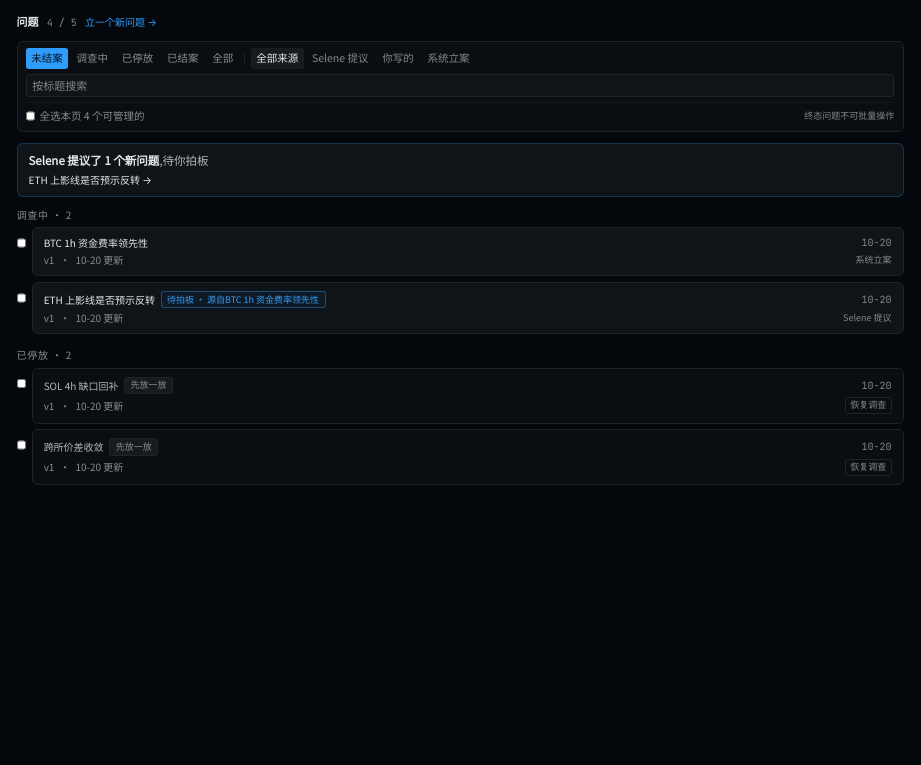
Test: QuestionListView 管理面 › 全选后批量停放:串行逐条 POST,只对 open/parked 发
Expected: the list with test id "open-questions" is shown, [16,227,904,334]
Click the checkbox with test id "question-select-all" at [31, 116], box [26,112,35,121]
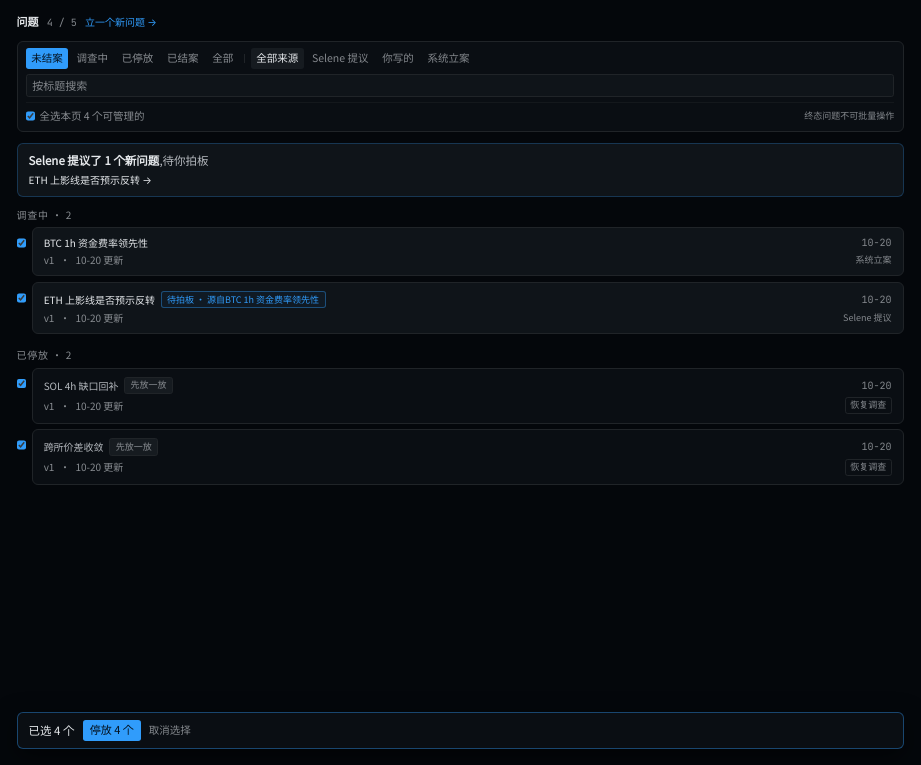
Result: the element with test id "batch-park-bar" shows "已选 4 个" at [28,722,74,738]
Click the button with test id "batch-park" at [112, 730], box [83,720,141,741]
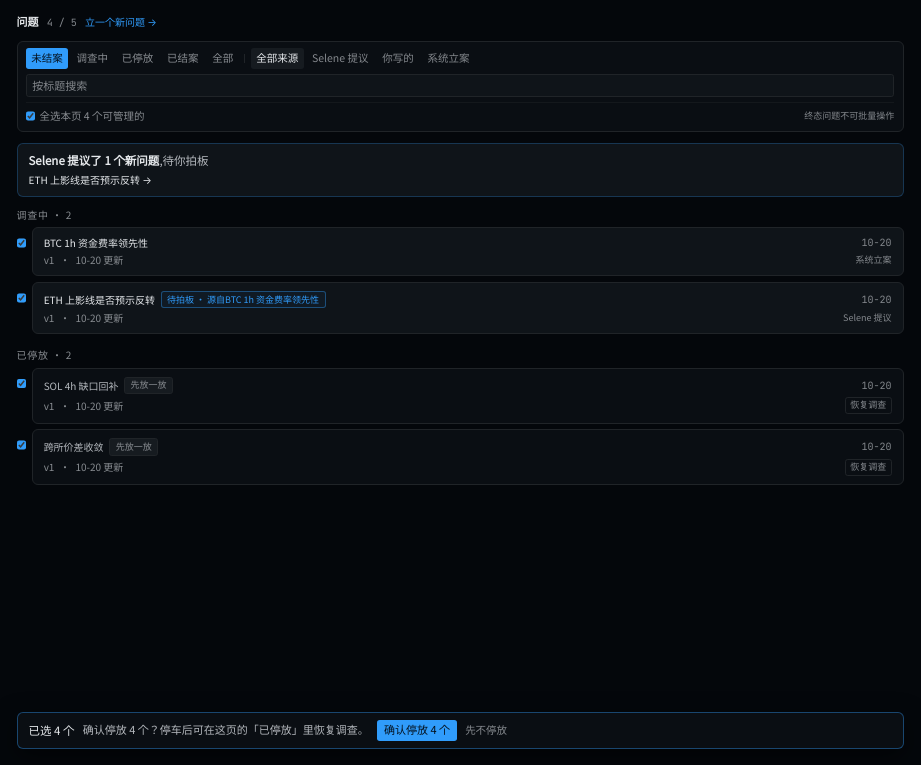
Click the button with test id "batch-park-confirm" at [417, 730], box [377,720,457,741]
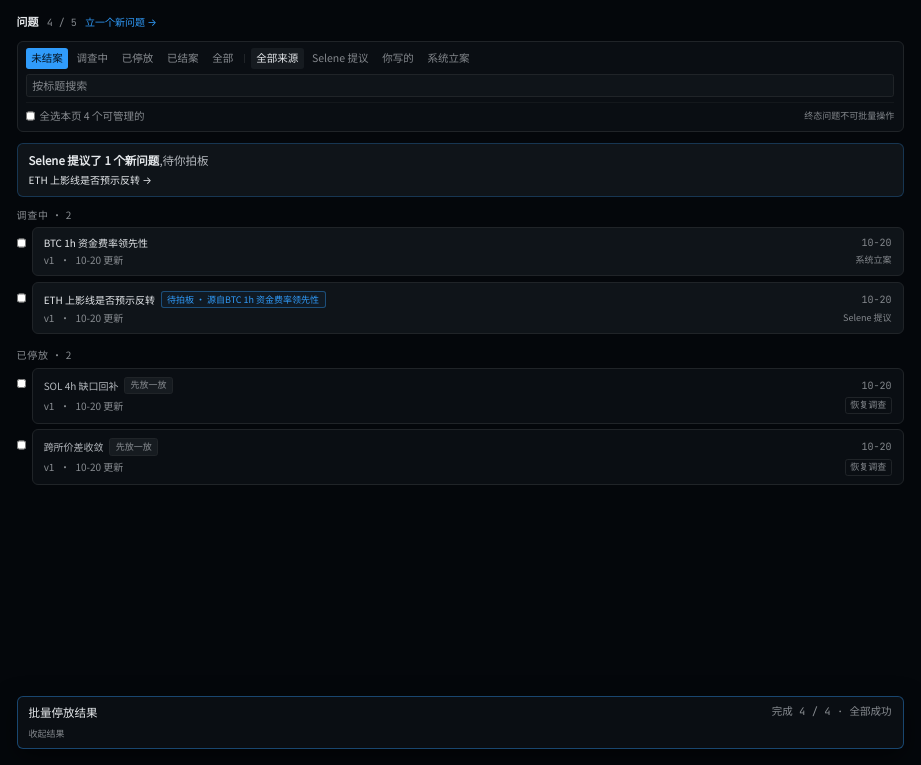
Result: the text with test id "batch-progress" shows "完成 4 / 4" at [772,704,892,719]
